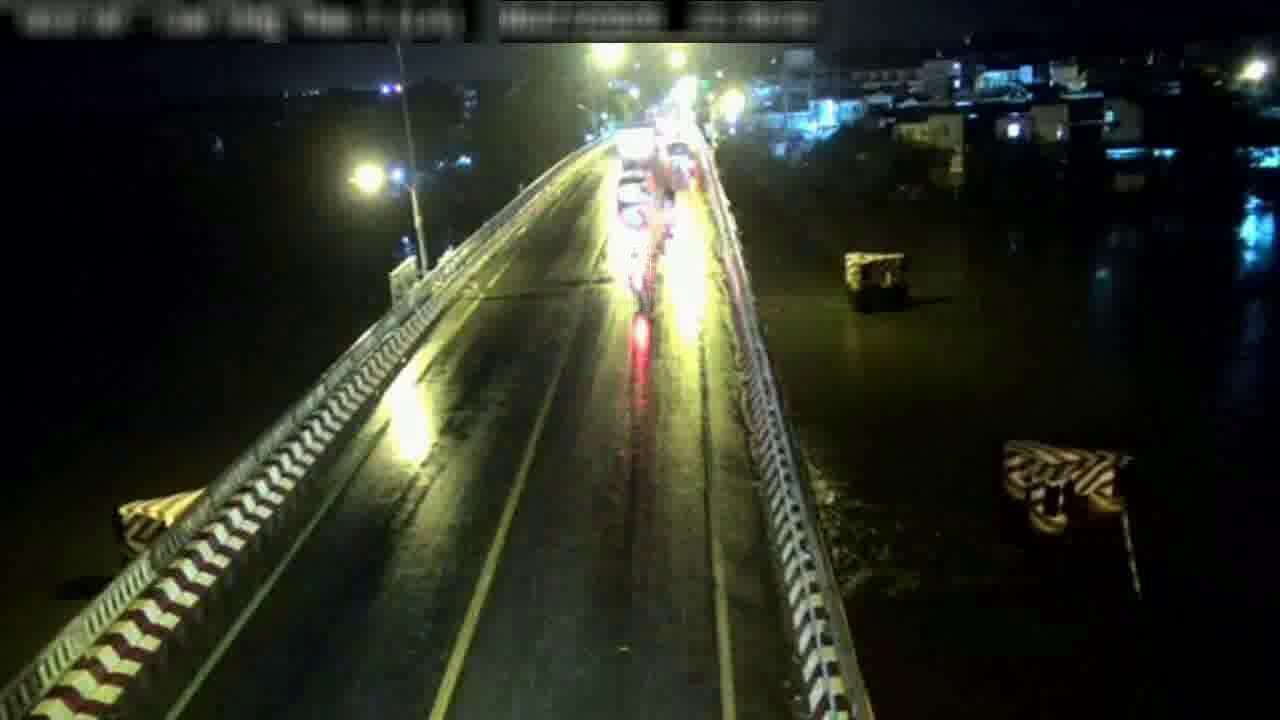motorbike: (627, 247, 652, 313)
